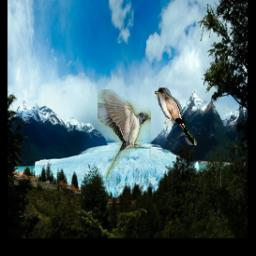Cuckoo: (154, 88, 196, 145)
Swallow: (97, 89, 150, 179)
